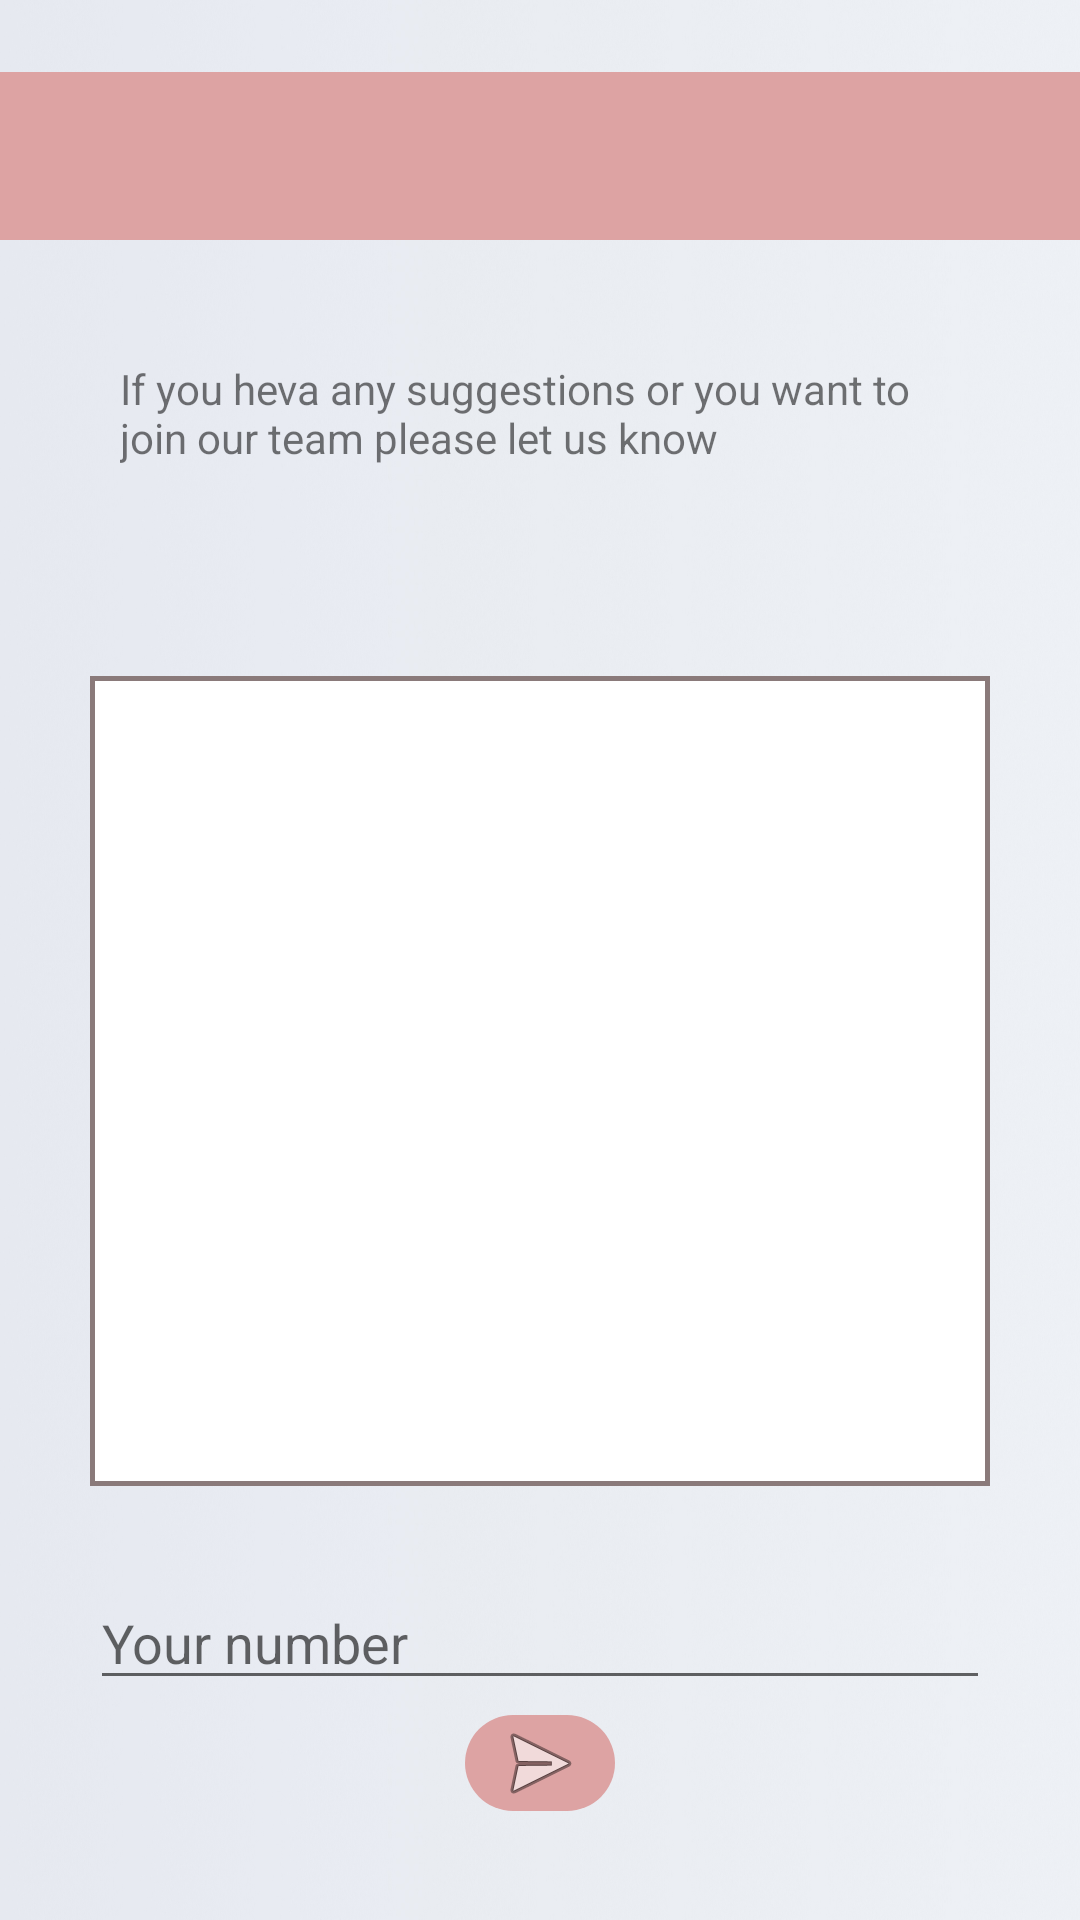

Icon click points for this 1080 × 1920 phone screenshot, format [x,y]:
send: [540,1763]
